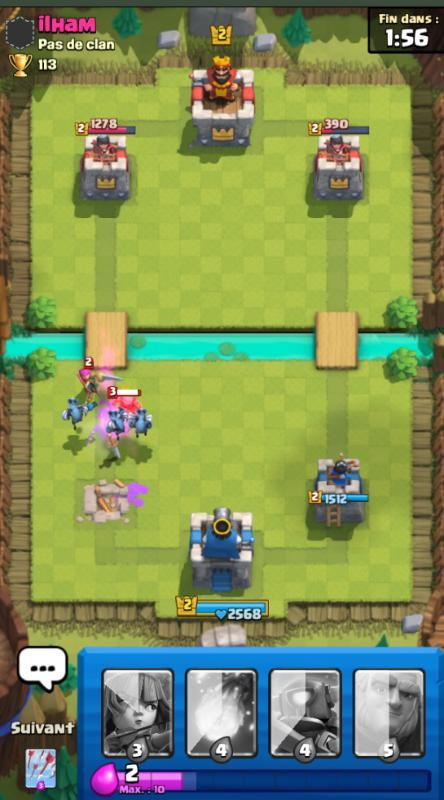enemy_archers: (74, 357, 104, 392)
player_minions: (59, 394, 93, 426), (127, 405, 155, 437), (102, 406, 129, 436)
